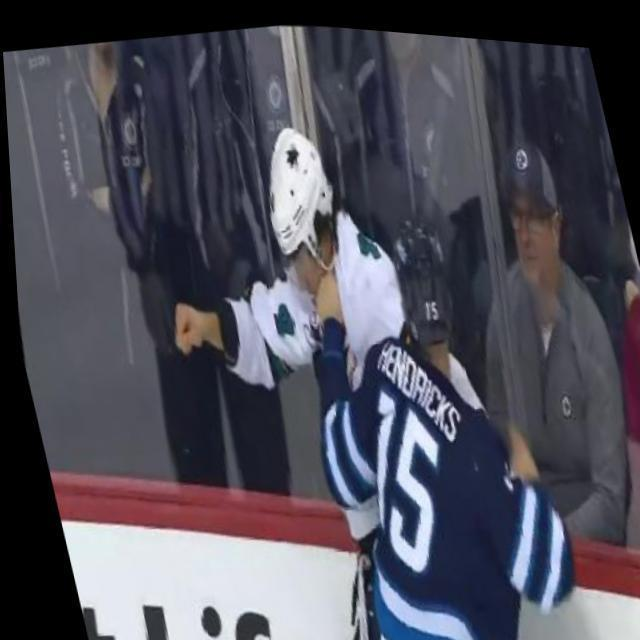fight: (116, 57, 634, 640)
